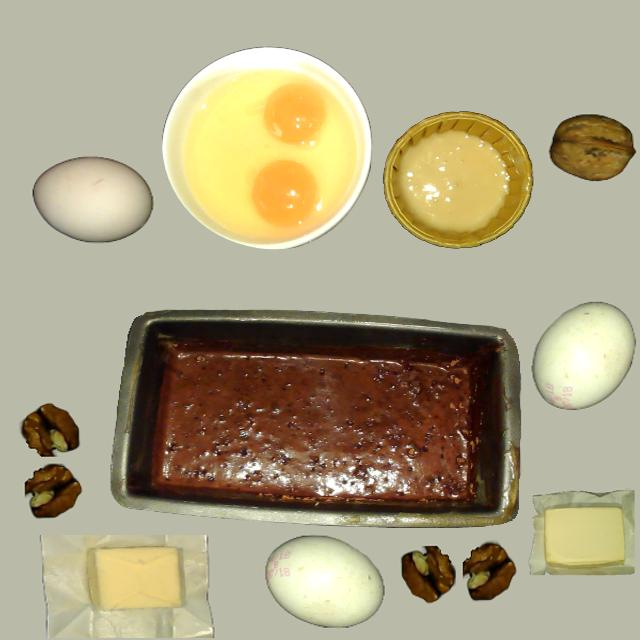Egg: (252, 161, 318, 225), (264, 82, 328, 146)
Walnut: (549, 115, 635, 181)
